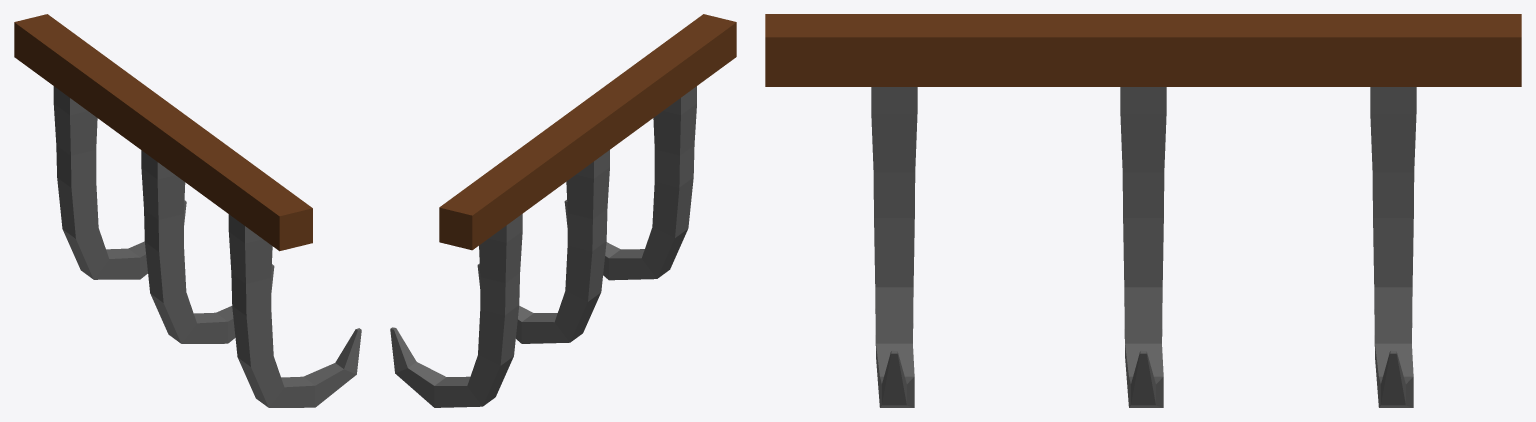
Rendered from hookrack.fbx.
3 renders of one model, left to right at view 1: azimuth 30°, elevation 25°; view 2: azimuth 150°, elevation 25°; view 3: azimuth 270°, elevation 25°, orthographic. The views are drawn at different scales.
Parts seen in each view (by area): view 1: Cube, Cube.002, Cube.003, Cube.001; view 2: Cube, Cube.003, Cube.002, Cube.001; view 3: Cube, Cube.003, Cube.002, Cube.001.
Part boxes in pixels (x1,y1,x2,y2): Cube: [14, 14, 312, 251]; Cube.002: [228, 214, 361, 407]; Cube.003: [53, 86, 186, 279]; Cube.001: [141, 150, 274, 343]; Cube: [439, 14, 736, 250]; Cube.003: [390, 214, 522, 407]; Cube.002: [564, 86, 696, 280]; Cube.001: [477, 150, 609, 343]; Cube: [765, 14, 1521, 86]; Cube.003: [1370, 87, 1416, 407]; Cube.002: [871, 87, 917, 407]; Cube.001: [1120, 87, 1166, 407].
Bounding box in the file's own units: 167 × 301 × 606.
